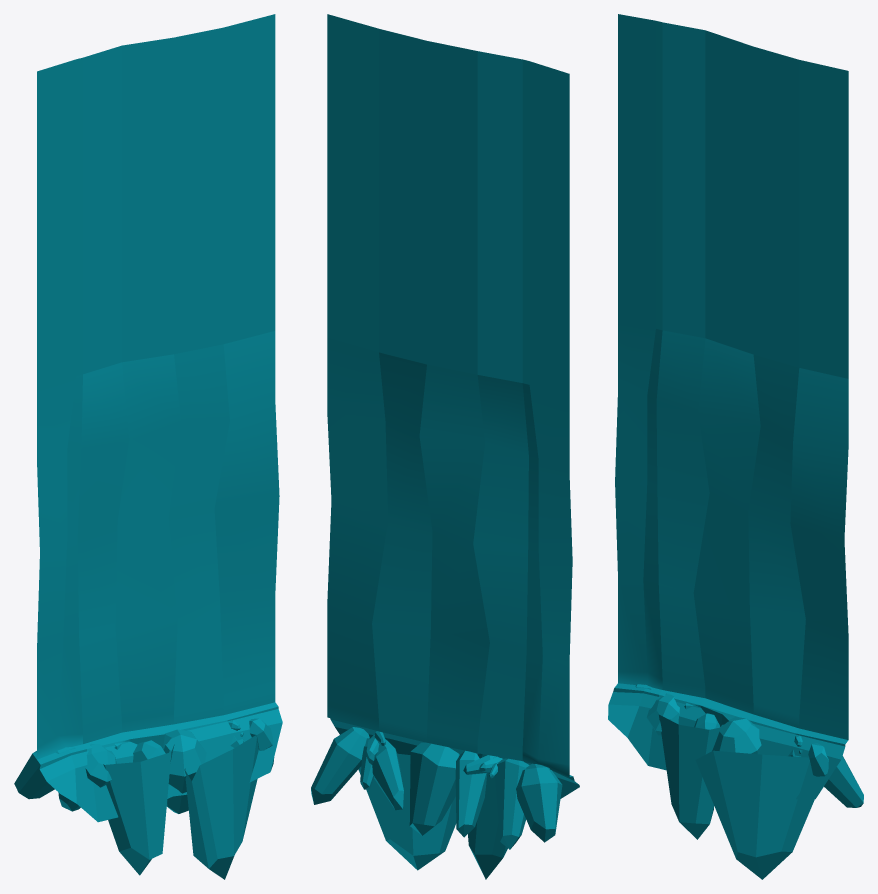
File: Roof_Med_Modular.fbx
3 views of the same model, side by side, from view 1: azimuth 30°, elevation 25°; view 2: azimuth 150°, elevation 25°; view 3: azimuth 330°, elevation 25° (orthographic). The views are drawn at different scales.
Visible parts, largest first — view 1: Roof_Med_Modul2; view 2: Roof_Med_Modul2; view 3: Roof_Med_Modul2.
Part boxes in pixels (x1,y1,x2,y2): Roof_Med_Modul2: (14,14,282,879); Roof_Med_Modul2: (311,14,579,879); Roof_Med_Modul2: (608,14,863,879).
Size of the model in its own units: 2.78 by 8.92 by 1.13.
